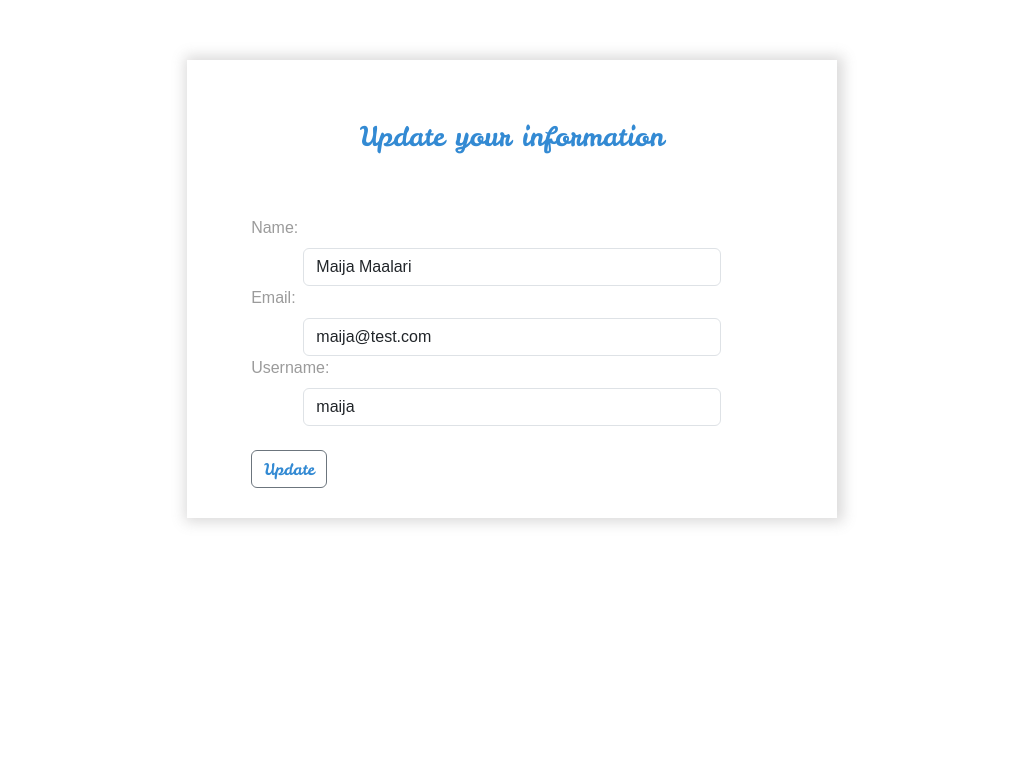
Test case: UpdateUserForm — validation › shows error when username is too short
Step 1. Replace the text in the 3rd field showing "maija" with "ab" → (512, 407), box [303,388,721,426]
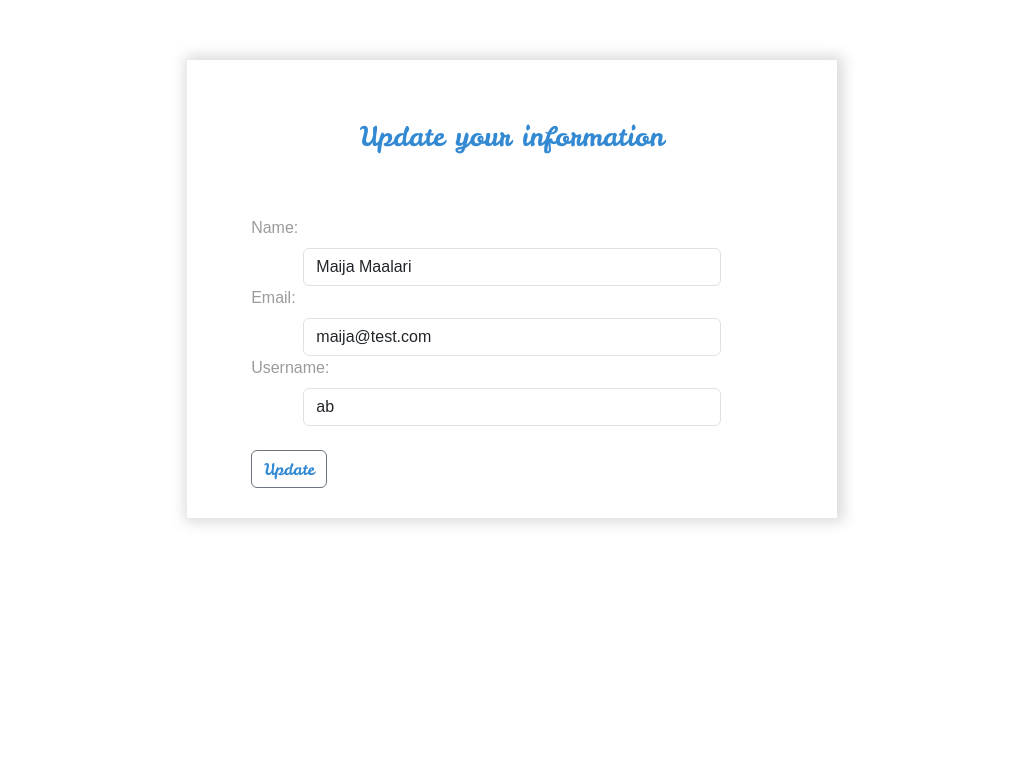
Step 2. Submit the form "Name: Email: Username: Update", box [251,216,773,488]
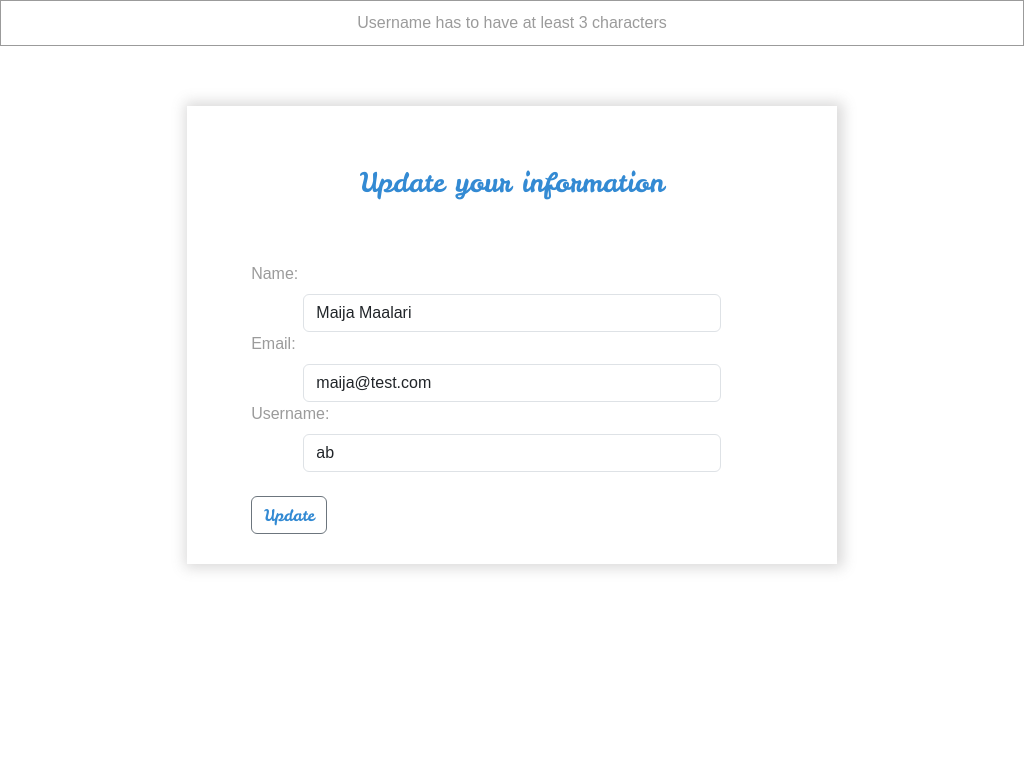
Check: the text "Username has to have at least 3 characters" is shown, box [0,0,1023,46]
